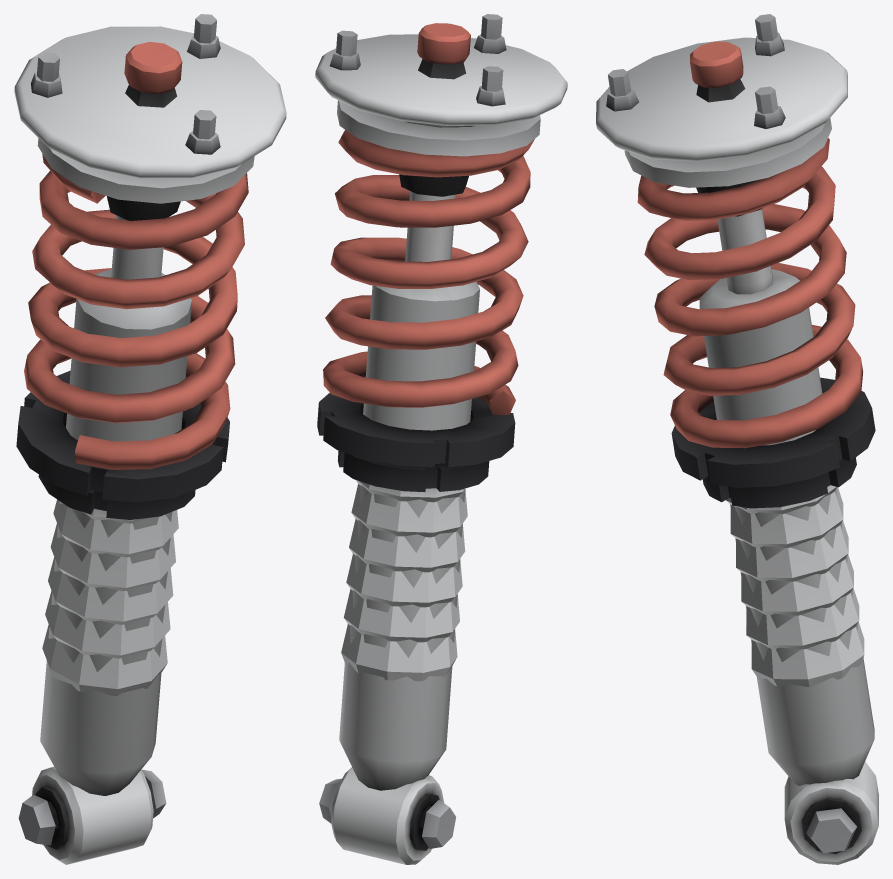
Rendered from susp_sport.glb.
3 renders of one model, left to right at view 1: azimuth 30°, elevation 25°; view 2: azimuth 150°, elevation 25°; view 3: azimuth 270°, elevation 25°, orthographic. The views are drawn at different scales.
Visible parts, largest first — view 1: PART; view 2: PART; view 3: PART.
Part boxes in pixels (x1,y1,x2,y2): PART: (14,14,286,864); PART: (315,14,567,864); PART: (596,14,878,864).
Bounding box in the file's own units: 0.1178 × 0.4104 × 0.1314.
